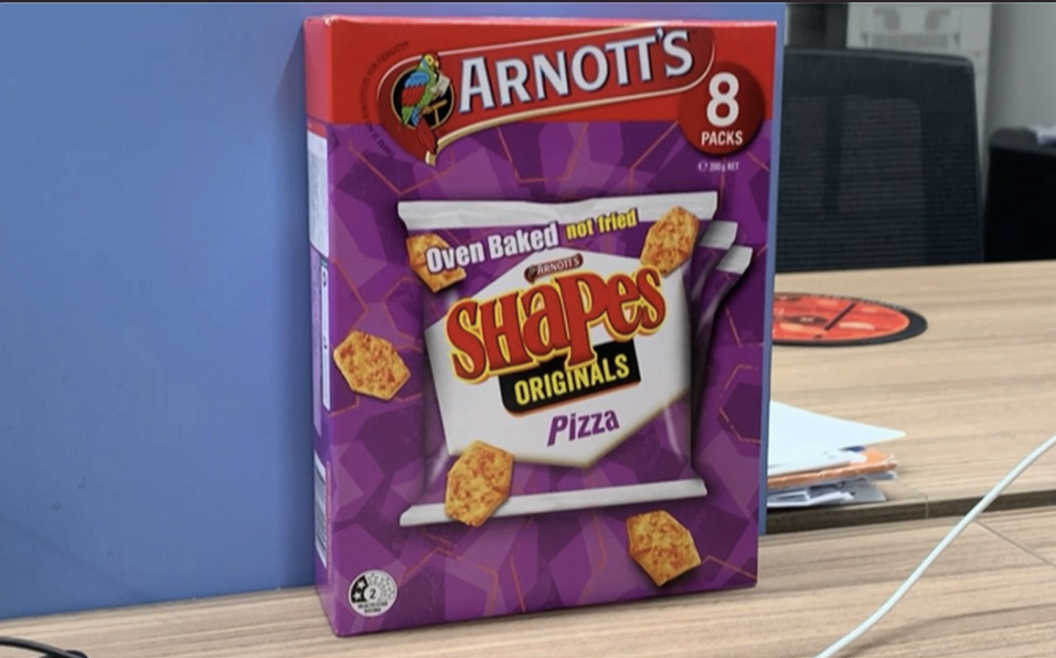crackers_150g: (340, 31, 763, 617)
